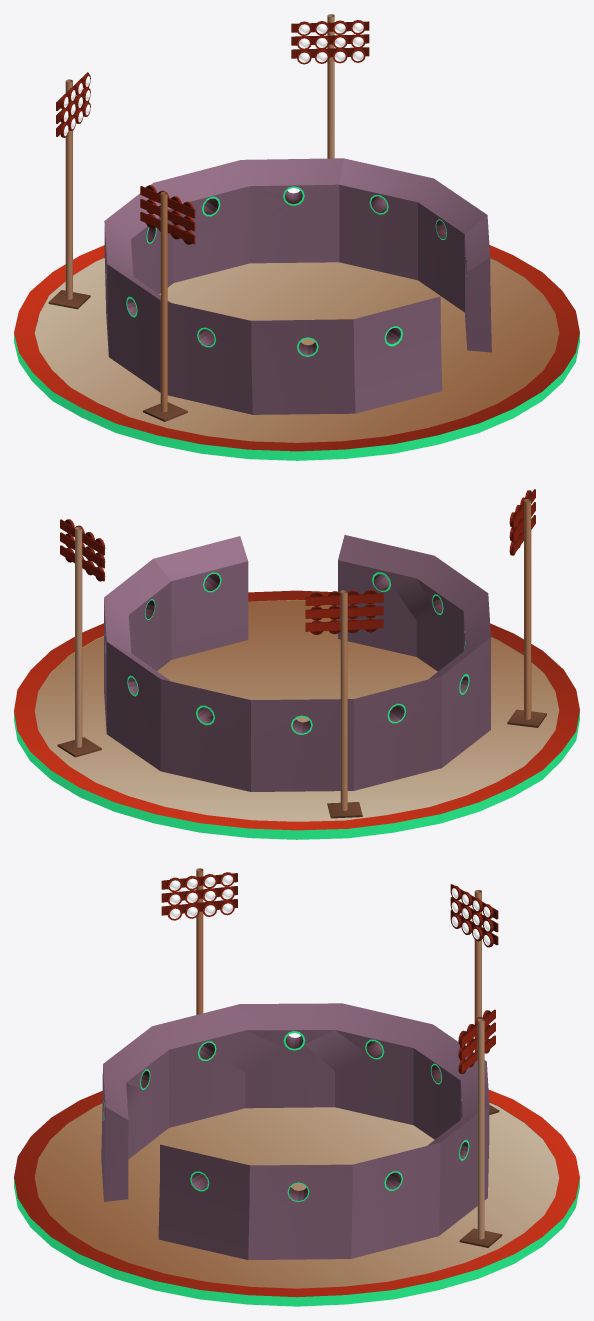
File: Stadium_Ext.glb
3 views of the same model, one above another, from view 1: azimuth 30°, elevation 25°; view 2: azimuth 150°, elevation 25°; view 3: azimuth 270°, elevation 25° (orthographic).
Parts seen in each view (by area): view 1: polySurface869; view 2: polySurface869; view 3: polySurface869.
Boxes of the visible parts, x1,y1,x2,y2 form: polySurface869: (14, 14, 579, 460); polySurface869: (14, 489, 579, 839); polySurface869: (14, 868, 579, 1306).
Bounding box in the file's own units: 118 × 52.33 × 118.
2 materials, 2 textured.
